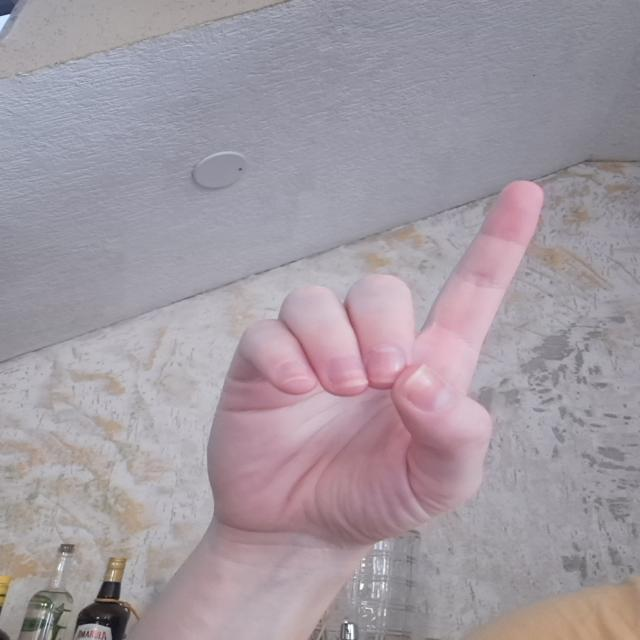D2: (207, 169, 549, 541)
